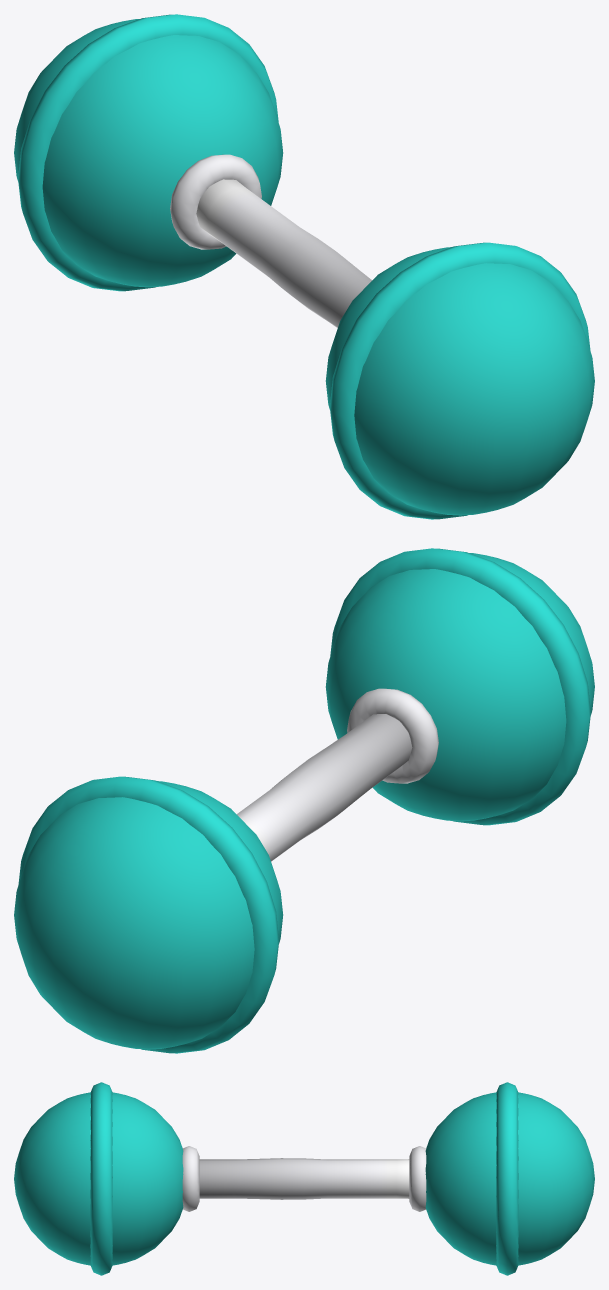
The model's file is NeonSportDumbbell.glb.
3 renders of one model, top to bottom at view 1: azimuth 30°, elevation 25°; view 2: azimuth 150°, elevation 25°; view 3: azimuth 270°, elevation 25°, orthographic. The views are drawn at different scales.
Visible parts, largest first — view 1: NeonSportDumbbell; view 2: NeonSportDumbbell; view 3: NeonSportDumbbell.
Boxes of the visible parts, left/top/right/bottom form: NeonSportDumbbell: left=14, top=14, right=594, bottom=519; NeonSportDumbbell: left=14, top=548, right=594, bottom=1053; NeonSportDumbbell: left=14, top=1082, right=594, bottom=1275.
Bounding box in the file's own units: 0.84 × 0.84 × 2.52.
1 material, 1 textured.
